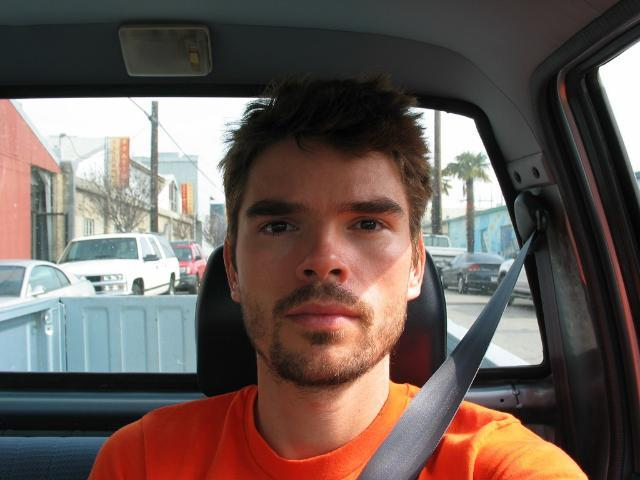SafeDriving: (246, 205, 311, 244), (336, 203, 399, 241)
Seatbelt: (356, 232, 576, 478)
